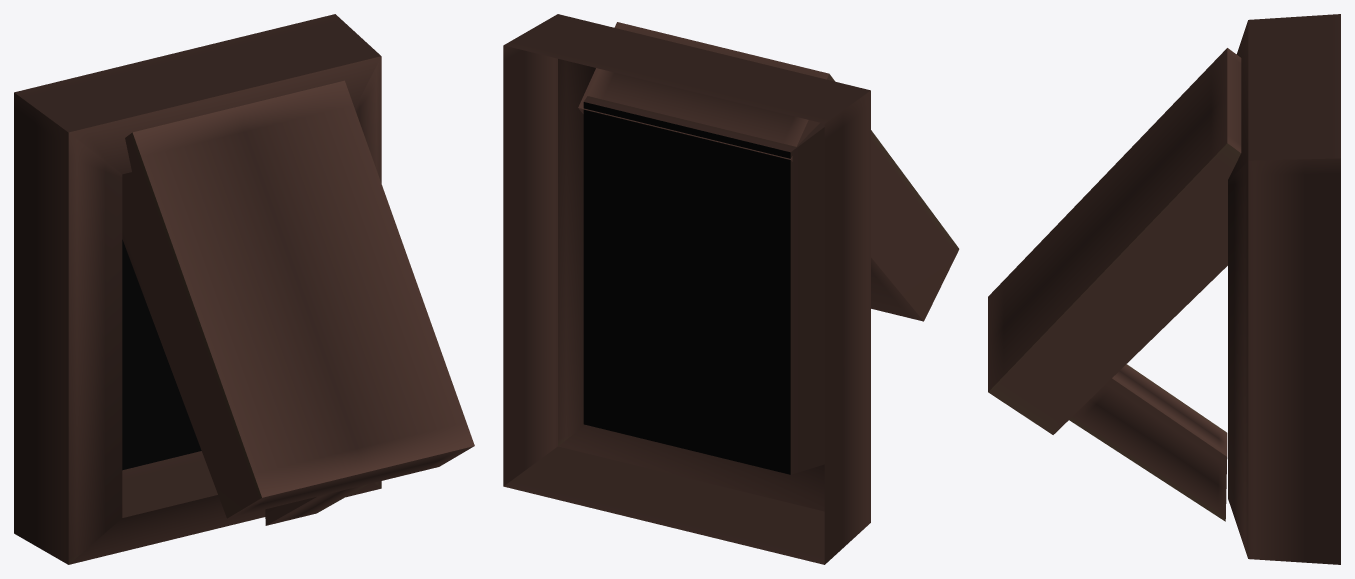
The model's file is roof_attic_window_opened.fbx.
3 renders of one model, left to right at view 1: azimuth 30°, elevation 25°; view 2: azimuth 150°, elevation 25°; view 3: azimuth 270°, elevation 25°, orthographic. The views are drawn at different scales.
Visible parts, largest first — view 1: roof_attic_window_opened; view 2: roof_attic_window_opened; view 3: roof_attic_window_opened.
Boxes of the visible parts, left/top/right/bottom form: roof_attic_window_opened: left=14, top=14, right=474, bottom=564; roof_attic_window_opened: left=503, top=14, right=959, bottom=564; roof_attic_window_opened: left=988, top=14, right=1340, bottom=564.
Bounding box in the file's own units: 67.64 × 88.75 × 69.79.
